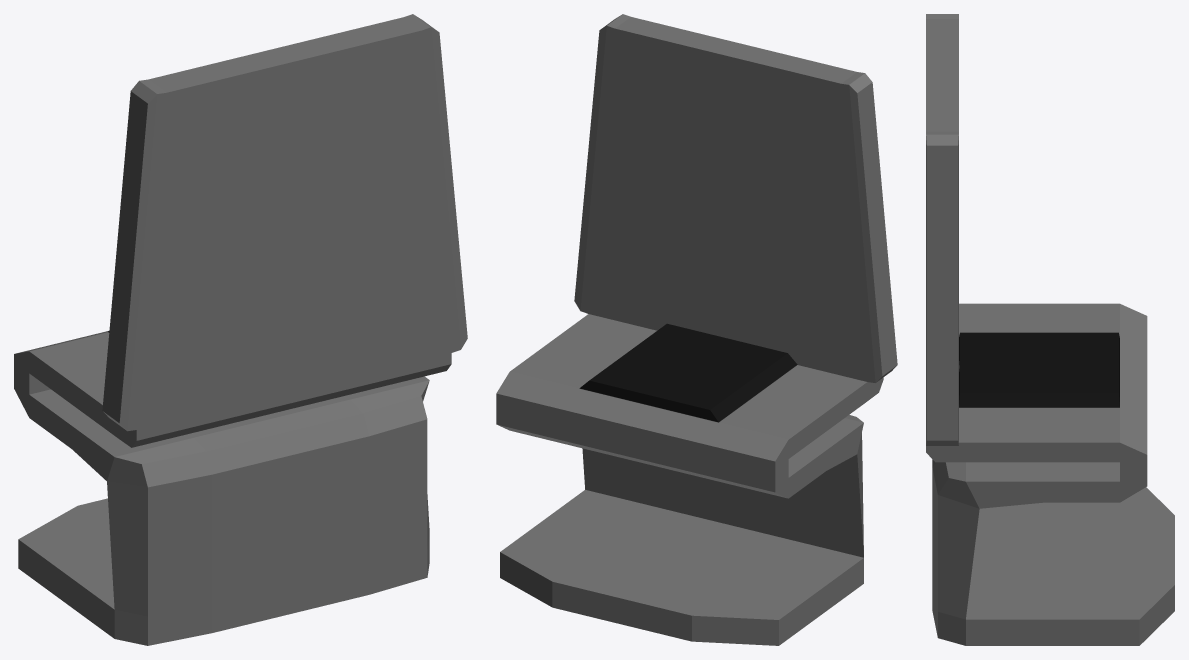
The model's file is Props_ControlRoom_Chair.fbx.
3 views of the same model, side by side, from view 1: azimuth 30°, elevation 25°; view 2: azimuth 150°, elevation 25°; view 3: azimuth 270°, elevation 25° (orthographic). The views are drawn at different scales.
Visible parts, largest first — view 1: Cube.002; view 2: Cube.002; view 3: Cube.002.
Boxes of the visible parts, x1,y1,x2,y2 form: Cube.002: (14, 14, 467, 645); Cube.002: (496, 14, 897, 645); Cube.002: (926, 14, 1174, 645).
Size of the model in its own units: 375 by 573 by 257.
